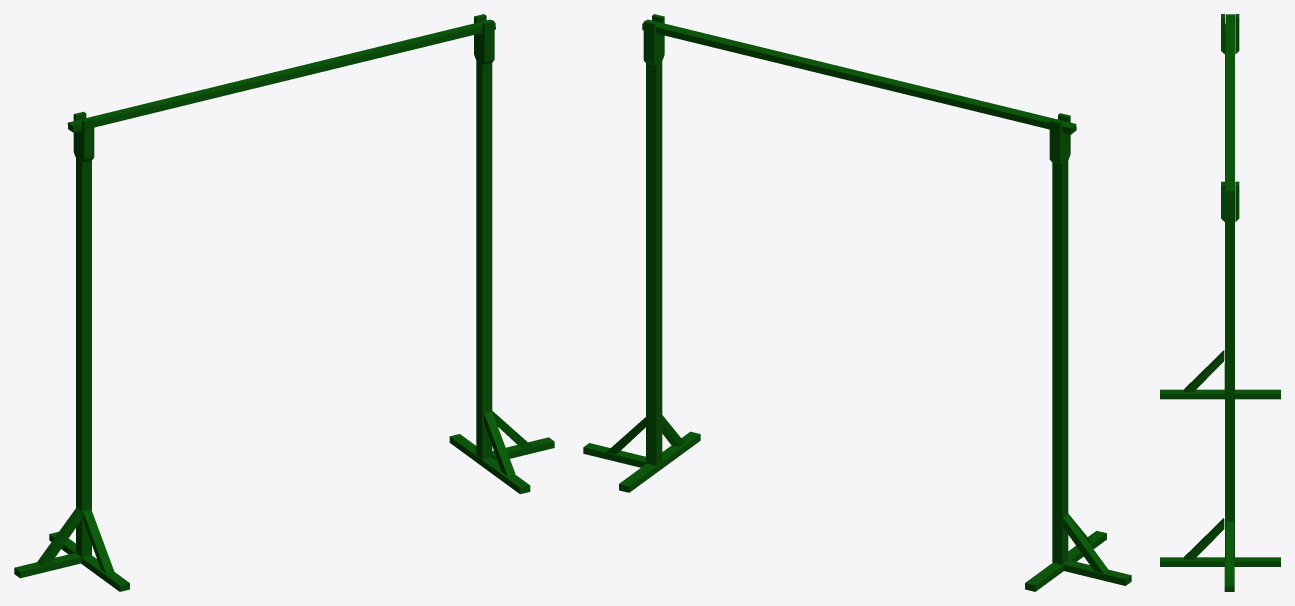
The model's file is Structure03.FBX.
The picture shows the model from 3 angles, left to right: view 1: azimuth 30°, elevation 25°; view 2: azimuth 150°, elevation 25°; view 3: azimuth 270°, elevation 25°; orthographic projection. The views are drawn at different scales.
Parts seen in each view (by area): view 1: SM_structure03_0; view 2: SM_structure03_0; view 3: SM_structure03_0.
Part boxes in pixels (box(x1,y1,x2,y2)): SM_structure03_0: box(14, 14, 554, 591); SM_structure03_0: box(583, 14, 1131, 591); SM_structure03_0: box(1160, 14, 1280, 591).
Bounding box in the file's own units: 263 × 60 × 209.
